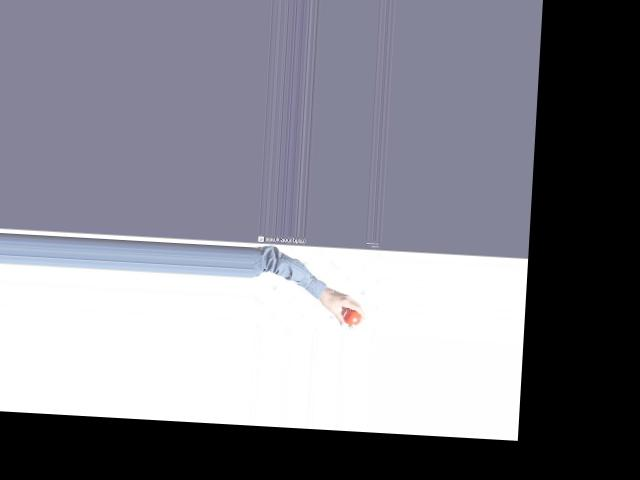tomato: (344, 309, 362, 324)
